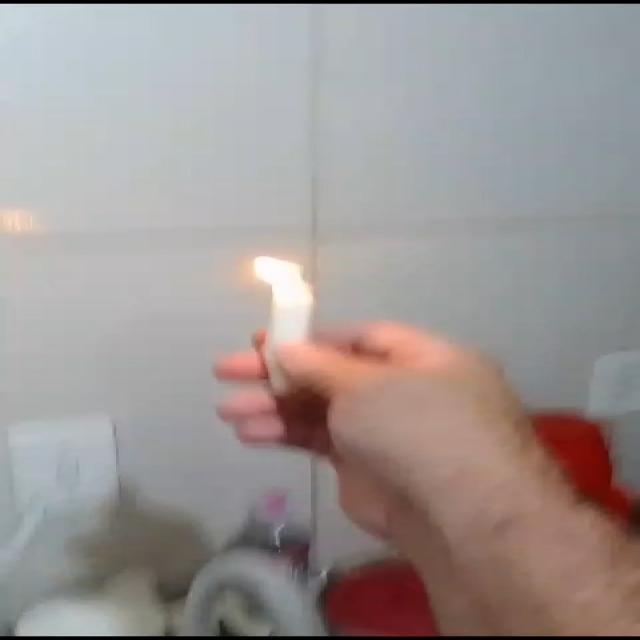fogo-ypXI: (252, 254, 304, 287)
